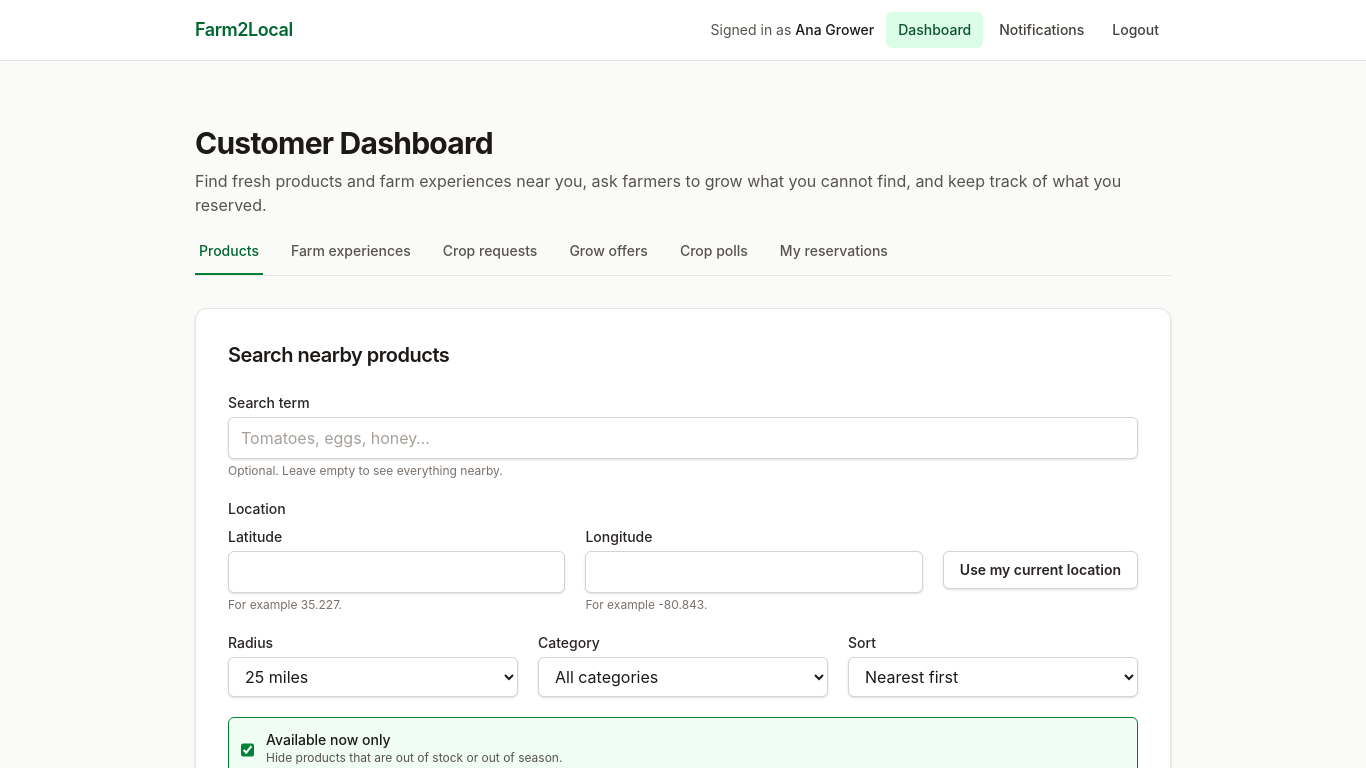
Test: search results › shows each product with its farm, distance, price, stock and harvest date
Type "35.2271" into the field labelled "Latitude" at (397, 572), box top-left (228, 551), bottom-right (565, 593)
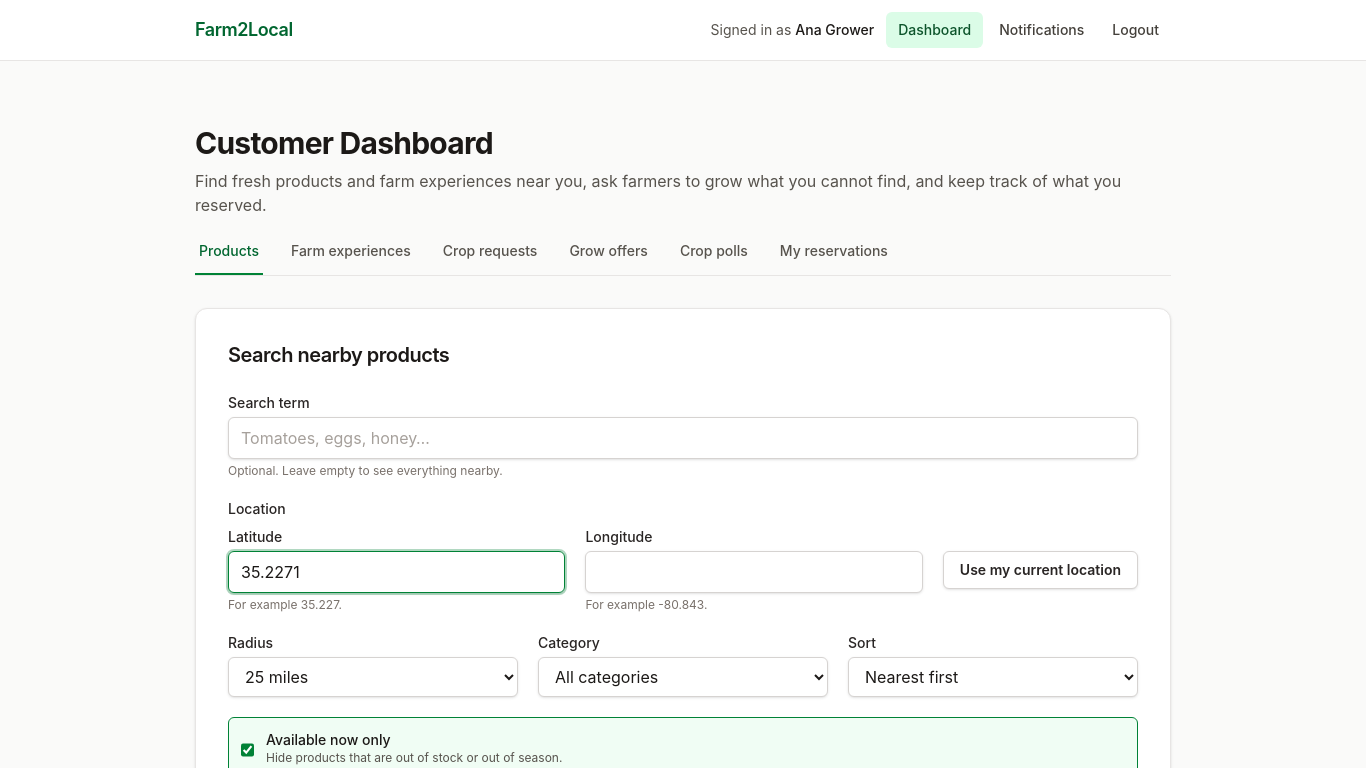
Type "-80.8431" into the field labelled "Longitude" at (754, 572), box top-left (585, 551), bottom-right (923, 593)
(page scrolled)
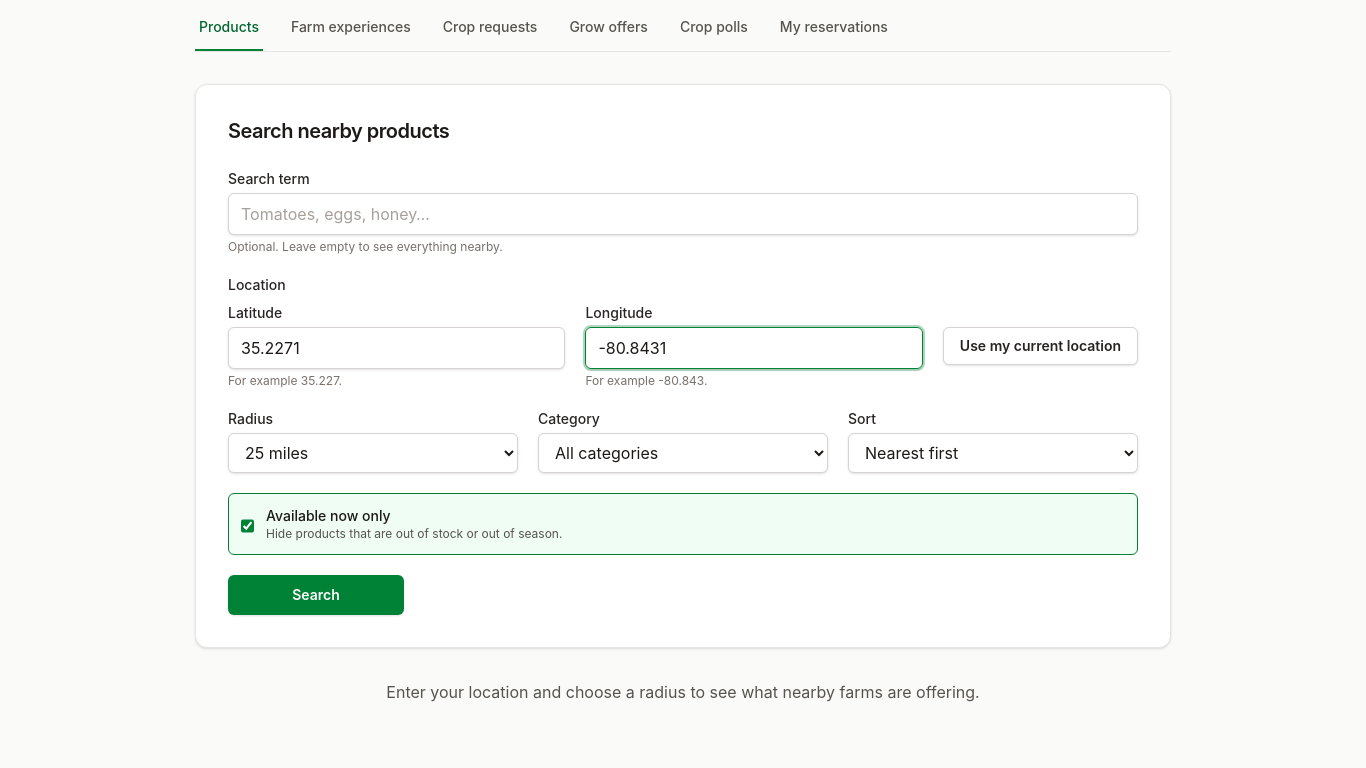
Click the button "Search" at (316, 595), box top-left (228, 575), bottom-right (404, 615)
(page scrolled)
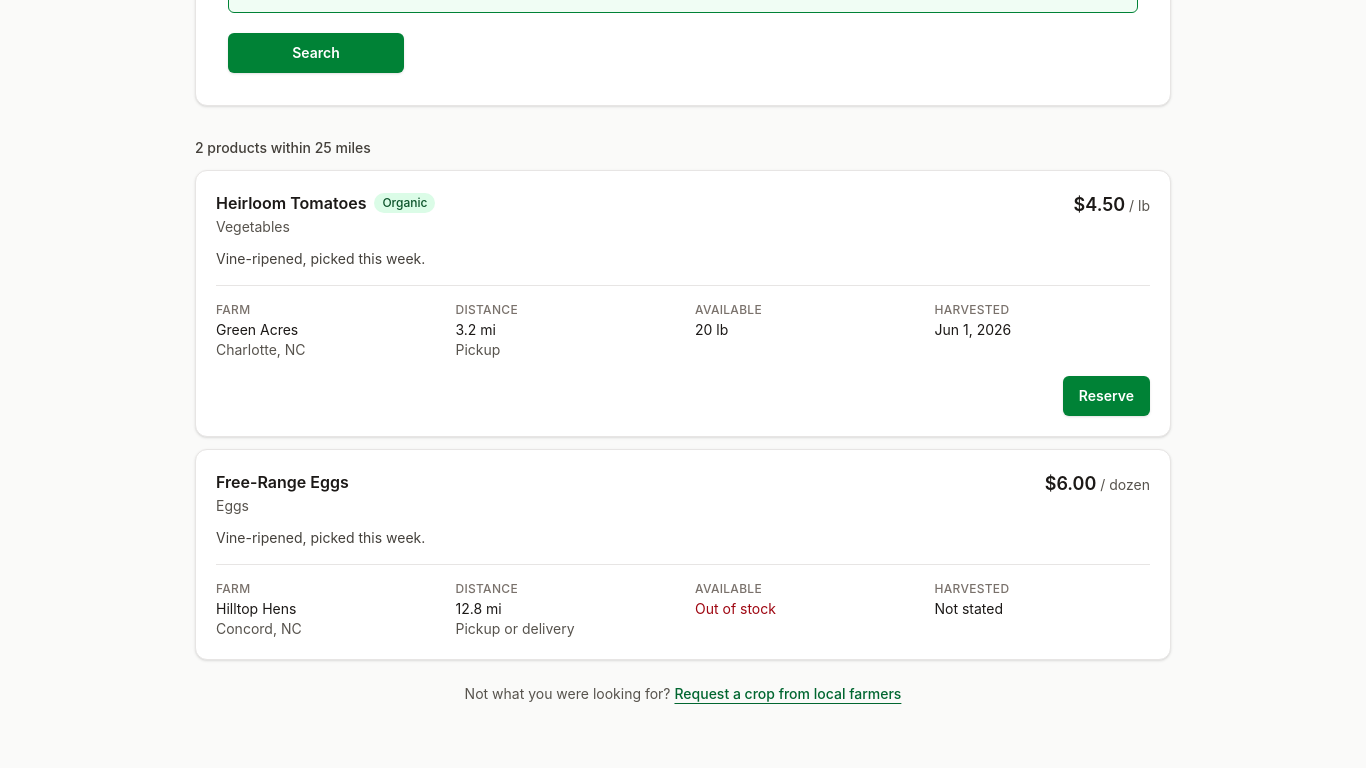
Check: the text "2 products within 25 miles" is shown, box top-left (195, 139), bottom-right (371, 156)
Check: the text "$4.50" is shown, box top-left (1074, 194), bottom-right (1125, 215)
Check: the text "/ lb" is shown, box top-left (1125, 197), bottom-right (1150, 214)
